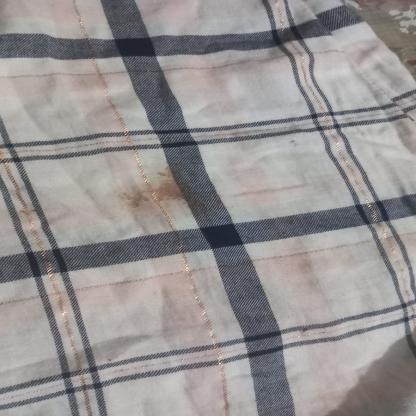spot: (120, 170, 215, 209)
